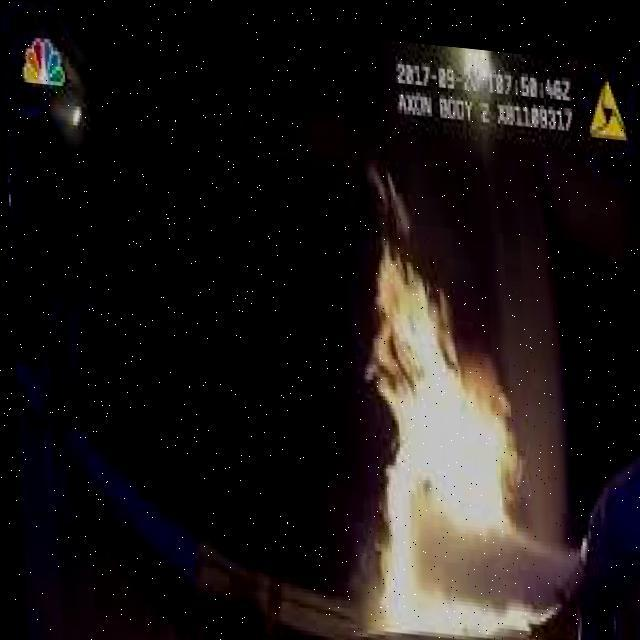Fire: (325, 182, 557, 639)
